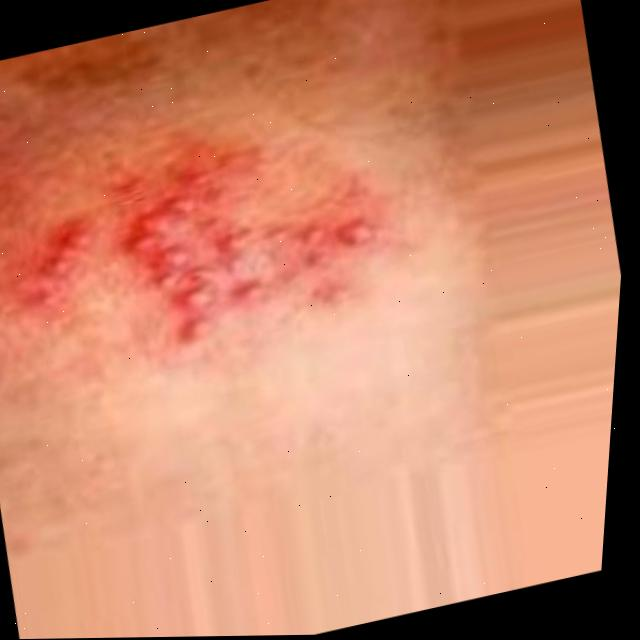Shingles: (3, 126, 398, 376)
